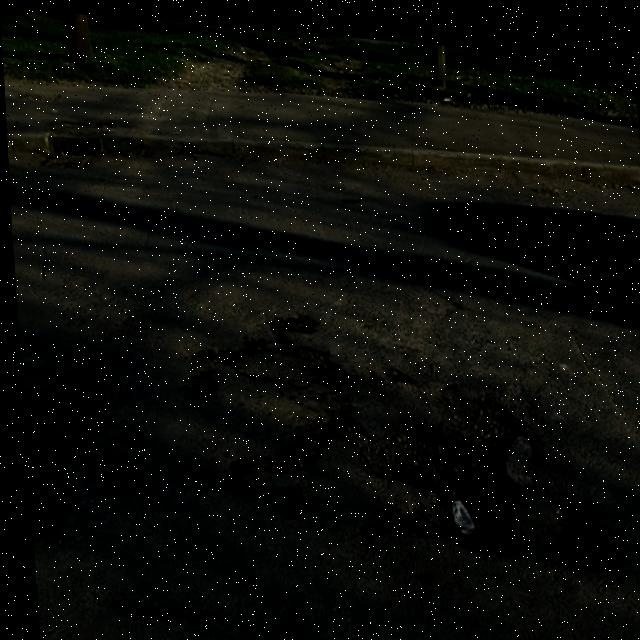Pothole: (345, 363, 539, 559), (546, 473, 629, 573), (260, 412, 322, 475)
